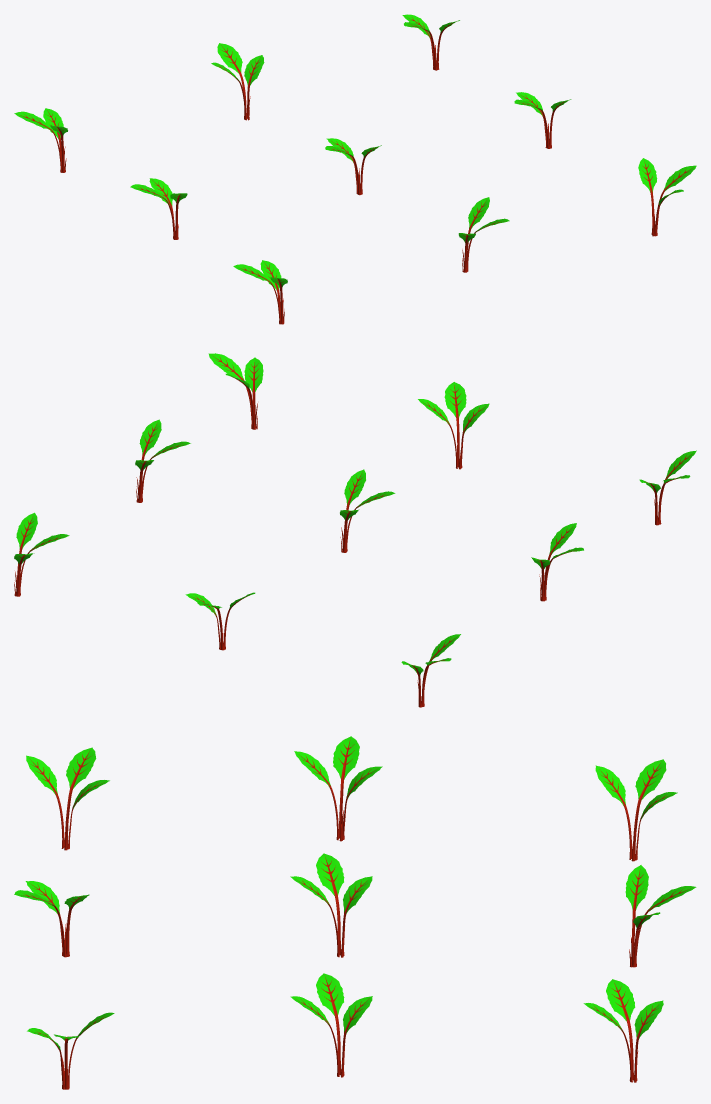
The model's file is Beet_lvl2.fbx.
3 views of the same model, one above another, from view 1: azimuth 30°, elevation 25°; view 2: azimuth 150°, elevation 25°; view 3: azimuth 270°, elevation 25° (orthographic). The views are drawn at different scales.
Visible parts, largest first — view 1: Beet_lvl2_LOD0; view 2: Beet_lvl2_LOD0; view 3: Beet_lvl2_LOD0.
Boxes of the visible parts, x1=… form: Beet_lvl2_LOD0: x1=14, y1=14, x2=696, y2=324; Beet_lvl2_LOD0: x1=14, y1=353, x2=696, y2=707; Beet_lvl2_LOD0: x1=14, y1=736, x2=696, y2=1089.
Size of what is drawn, in the model's own units: 101 by 101 by 16.3.
